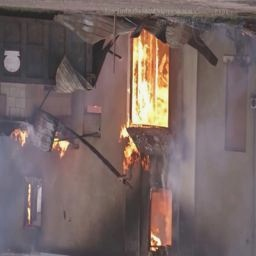fire: (128, 41, 169, 129), (149, 189, 171, 250)
